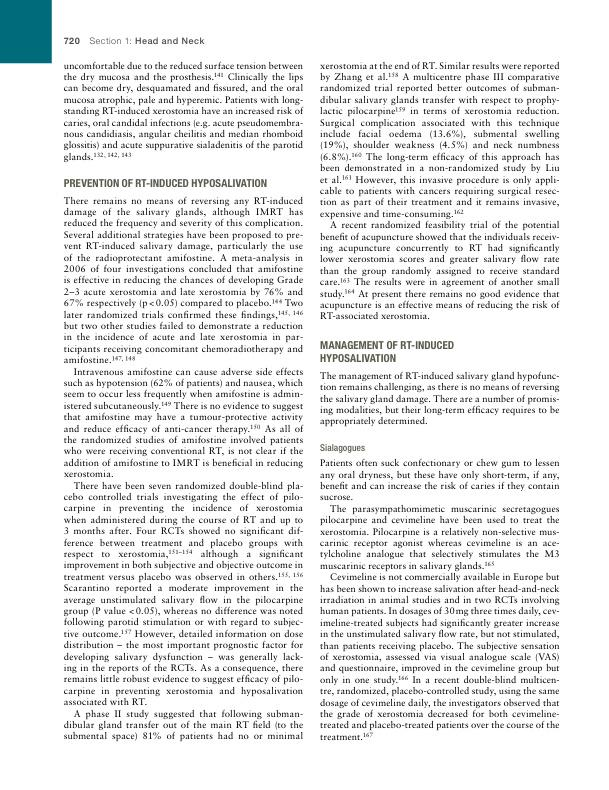header: (89, 36, 206, 45)
section-heading: (318, 339, 455, 364), (63, 178, 268, 189)
sub-section-heading: (319, 443, 366, 454)
text: (63, 195, 305, 743), (319, 457, 560, 742), (319, 61, 561, 321), (62, 60, 304, 164), (319, 370, 560, 428)
